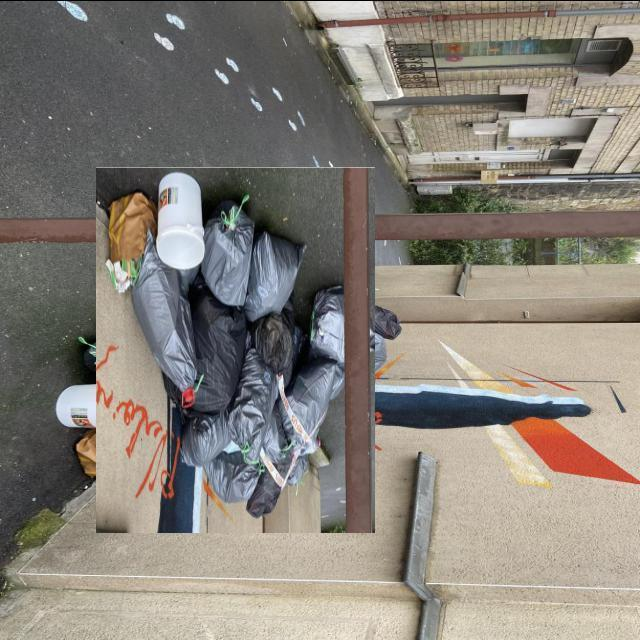Trashbag: (132, 256, 195, 404), (235, 312, 302, 422), (188, 297, 244, 417), (244, 226, 310, 320), (199, 207, 259, 300), (284, 364, 340, 452), (232, 402, 287, 463), (306, 289, 350, 365), (179, 412, 228, 469), (210, 456, 265, 506)
